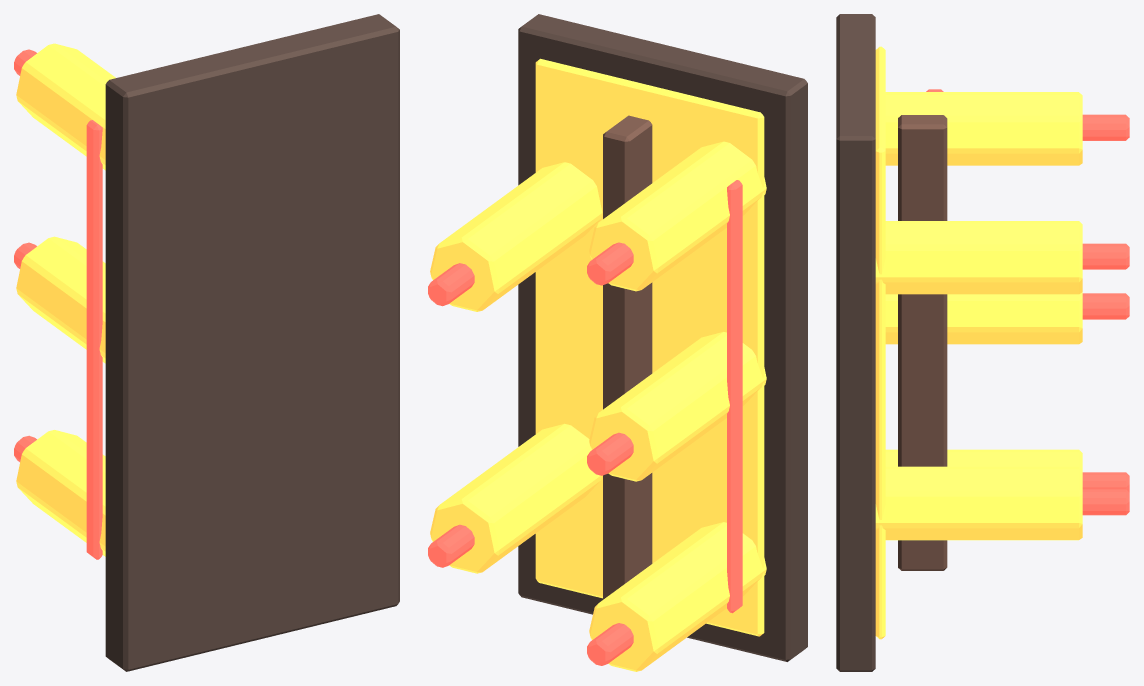
File: hazard_cone_cluster.glb
3 views of the same model, side by side, from view 1: azimuth 30°, elevation 25°; view 2: azimuth 150°, elevation 25°; view 3: azimuth 270°, elevation 25° (orthographic). The views are drawn at different scales.
Visible parts, largest first — view 1: HazardConeCluster; view 2: HazardConeCluster; view 3: HazardConeCluster.
Part boxes in pixels (x1,y1,x2,y2): HazardConeCluster: [14, 14, 399, 671]; HazardConeCluster: [428, 14, 807, 671]; HazardConeCluster: [836, 14, 1129, 671].
Size of the model in its own units: 1.2 by 2.4 by 1.19.
